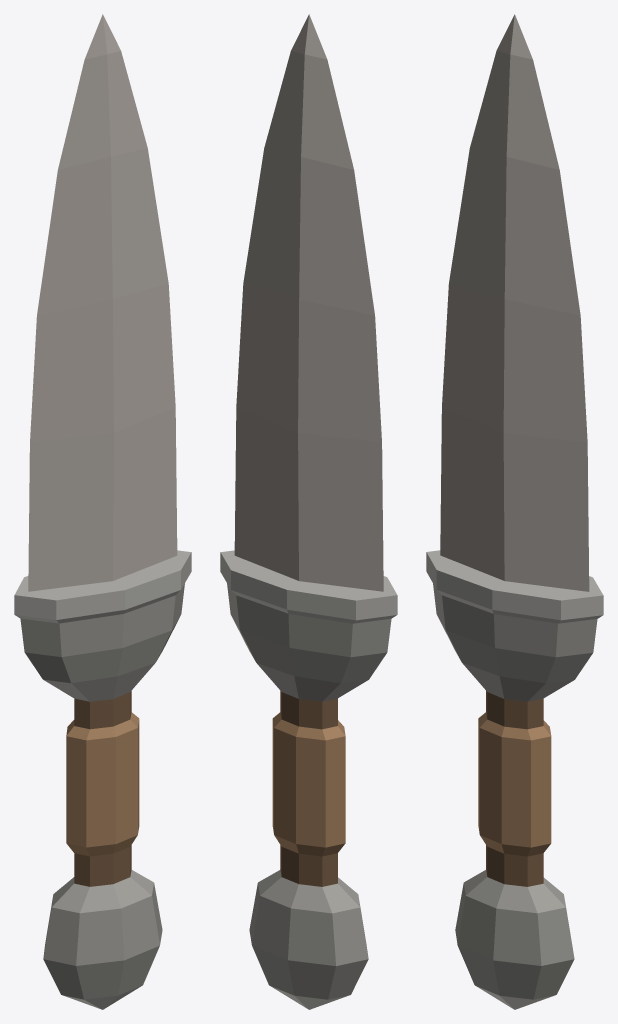
Rendered from SM_pwe_rome_dagger_03.fbx.
The picture shows the model from 3 angles, left to right: view 1: azimuth 30°, elevation 25°; view 2: azimuth 150°, elevation 25°; view 3: azimuth 330°, elevation 25°; orthographic projection.
Parts seen in each view (by area): view 1: SM_pwe_rome_dagger_03; view 2: SM_pwe_rome_dagger_03; view 3: SM_pwe_rome_dagger_03.
Boxes of the visible parts, <box> form: SM_pwe_rome_dagger_03: <box>14,14,191,1009</box>; SM_pwe_rome_dagger_03: <box>220,14,397,1009</box>; SM_pwe_rome_dagger_03: <box>426,14,603,1009</box>.
Size of the model in its own units: 10.48 by 56.35 by 4.57.
